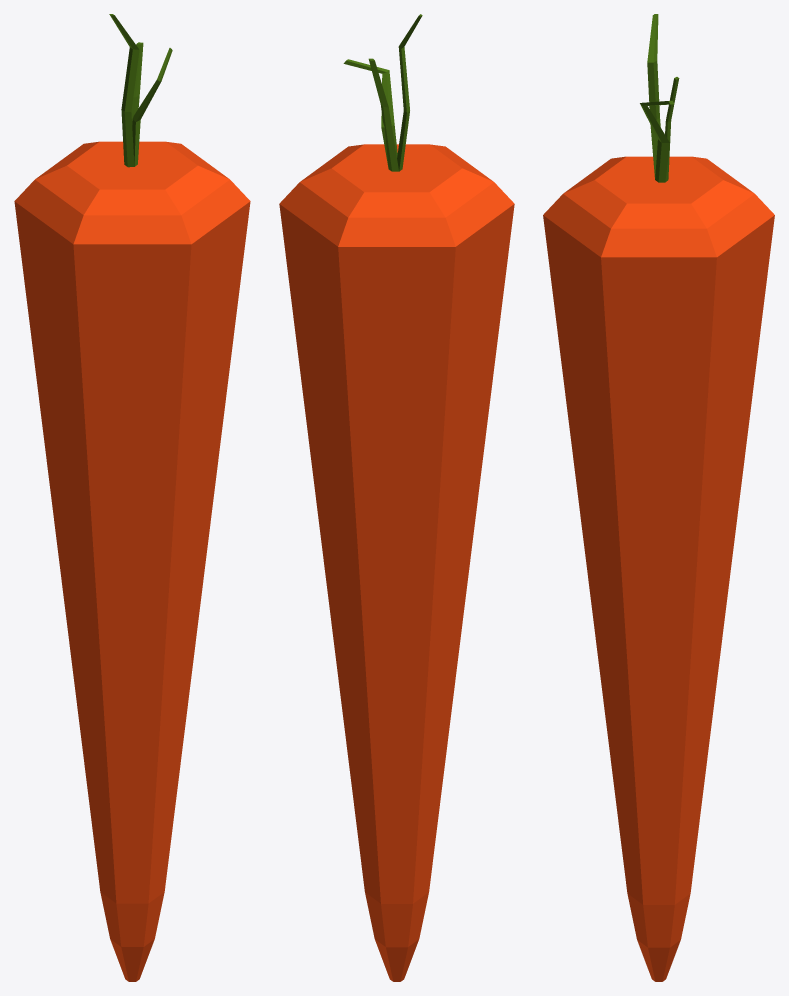
The model's file is zanahoria.FBX.
The picture shows the model from 3 angles, left to right: view 1: azimuth 30°, elevation 25°; view 2: azimuth 150°, elevation 25°; view 3: azimuth 270°, elevation 25°; orthographic projection.
Parts seen in each view (by area): view 1: zanahoria; view 2: zanahoria; view 3: zanahoria.
Part boxes in pixels (x1,y1,x2,y2): zanahoria: (14,14,250,981); zanahoria: (279,14,514,981); zanahoria: (543,14,774,981).
Bounding box in the file's own units: 6.69 × 35.06 × 7.73.
